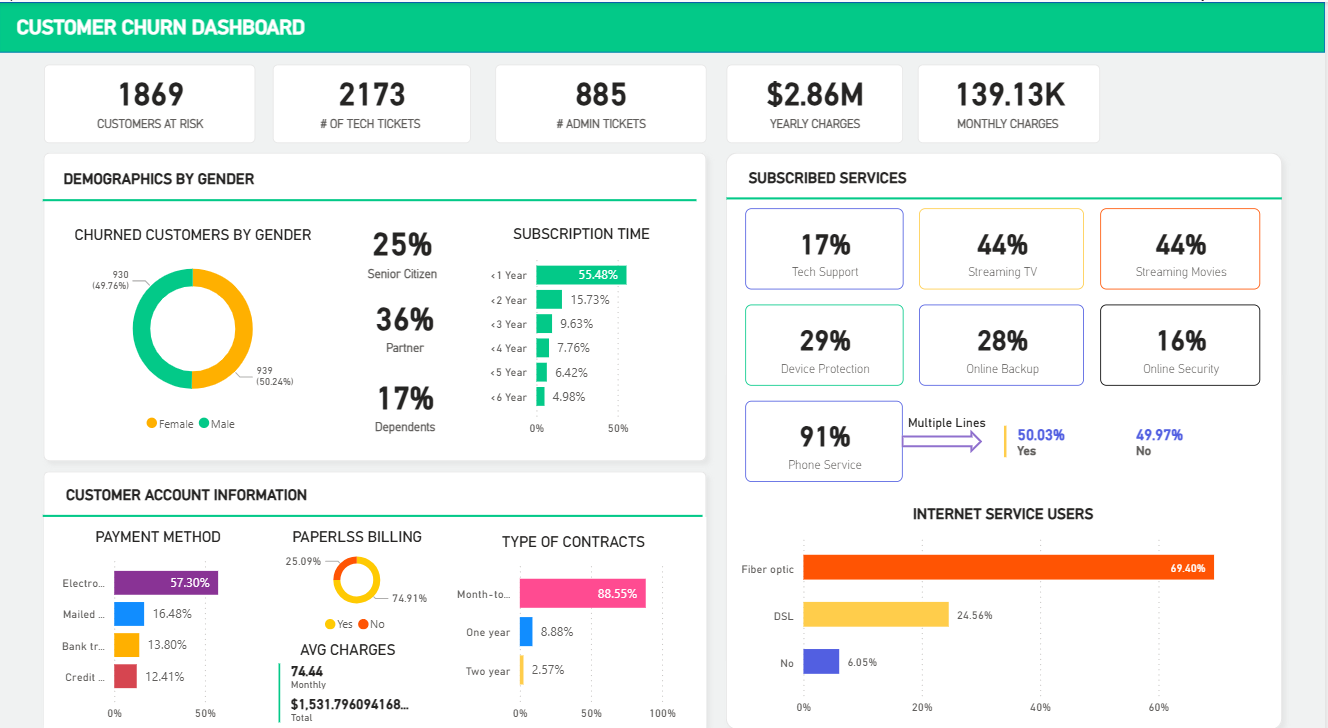

What the dashboard file says about the page in this screenshot:
{"tool":"powerbi","page":{"name":"Churn Dashboard","canvas":[1280,720],"ordinal":0},"visuals":[{"type":"shape","box":[0,0,1280,49],"z":0},{"type":"shape","box":[34,136,658,316],"z":0,"group":"g1"},{"type":"card","fields":{"Values":["Churn.% Tech Support"]},"box":[720,199,152.4,78.4],"z":0,"group":"g4"},{"type":"shape","box":[692,136,555,575],"z":1000},{"type":"card","fields":{"Values":["Churn.% Streaming TV"]},"box":[887.4,199,159.5,78.4],"z":1000,"group":"g4"},{"type":"donutChart","title":"CHURNED CUSTOMERS BY GENDER","fields":{"Category":["01 Churn-Dataset.gender"],"Y":["CountNonNull(01 Churn-Dataset.gender)"]},"box":[61.1,204.4,252.2,223.4],"z":1000,"group":"g1"},{"type":"shape","box":[702,123,536,133],"z":1500,"group":"g3"},{"type":"shape","box":[42,430,636.8,133],"z":1500,"group":"g2"},{"type":"textbox","box":[12,8,438,33],"z":2000},{"type":"textbox","box":[703.8,145,522.6,38],"z":2000,"group":"g3"},{"type":"textbox","box":[42.7,146.1,630.9,47.3],"z":2000,"group":"g1"},{"type":"card","fields":{"Values":["Churn.% Streaming Movies"]},"box":[1062.8,199,154.2,78.4],"z":2000,"group":"g4"},{"type":"textbox","box":[44.2,452,636.8,38],"z":2000,"group":"g2"},{"type":"card","fields":{"Values":["Churn.% of Senior Citizen"]},"box":[330.5,204.4,118,77.5],"z":3000,"group":"g1"},{"type":"card","fields":{"Values":["Churn.% Device Protection"]},"box":[720,291.6,152.4,78.4],"z":3000,"group":"g4"},{"type":"shape","box":[34,444,658,267],"z":3000},{"type":"card","fields":{"Values":["CountNonNull(01 Churn-Dataset.customerID)"]},"box":[44,60,204,76],"z":4000},{"type":"card","fields":{"Values":["Churn.% of partner"]},"box":[329.5,278.9,125.5,74.5],"z":4000,"group":"g1"},{"type":"card","fields":{"Values":["Churn.% Online Backup"]},"box":[887.4,291.6,159.5,78.4],"z":4000,"group":"g4"},{"type":"shape","box":[42.7,151.1,630.9,78.5],"z":5000,"group":"g1"},{"type":"card","fields":{"Values":["Churn.% Online Sec"]},"box":[1062.8,291.6,154.2,78.4],"z":5000,"group":"g4"},{"type":"card","fields":{"Values":["Churn.% Phone Service"]},"box":[720,385,152,78],"z":5000},{"type":"card","fields":{"Values":["Sum(01 Churn-Dataset.numTechTickets)"]},"box":[264,60,191,76],"z":6000},{"type":"card","fields":{"Values":["Churn.% of Dependents"]},"box":[329.5,351.4,125.5,79.5],"z":6000,"group":"g1"},{"type":"clusteredBarChart","title":"SUBSCRIPTION TIME","fields":{"Y":["CountNonNull(Churn.Churn)"],"Category":["Churn.Tenure(in years)"]},"box":[466.9,204.4,190.5,220.4],"z":7000,"group":"g1"},{"type":"clusteredBarChart","title":"PAYMENT METHOD","fields":{"Y":["CountNonNull(Churn.PaymentMethod)"],"Category":["Churn.PaymentMethod"]},"box":[44,497,220,204],"z":7000},{"type":"card","fields":{"Values":["Sum(01 Churn-Dataset.TotalCharges)"]},"box":[702,60,170,76],"z":8000},{"type":"card","fields":{"Values":["Sum(01 Churn-Dataset.numAdminTickets)"]},"box":[479,60,204,76],"z":9000},{"type":"group","id":"g1","title":"Group 1","box":[34,136,658,316],"z":10000},{"type":"card","fields":{"Values":["Sum(01 Churn-Dataset.MonthlyCharges)"]},"box":[887,60,176,76],"z":11000},{"type":"donutChart","title":"PAPERLSS BILLING","fields":{"Category":["Churn.PaperlessBilling"],"Y":["CountNonNull(Churn.PaperlessBilling)"]},"box":[248,497,194,126],"z":12000},{"type":"multiRowCard","title":"AVG CHARGES","fields":{"Values":["Avg(Churn.MonthlyCharges)","Avg(Churn.TotalCharges)"]},"box":[264,606,143,95],"z":13000},{"type":"clusteredBarChart","title":"TYPE OF CONTRACTS","fields":{"Category":["Churn.Contract"],"Y":["CountNonNull(Churn.Contract)"]},"box":[426,497,257,204],"z":14000},{"type":"group","id":"g2","title":"Group 2","box":[42,430,639,133],"z":15000},{"type":"group","id":"g3","title":"Group 2","box":[702,123,536,133],"z":16000},{"type":"group","id":"g4","title":"Group 3","box":[720,199,497,171],"z":17000},{"type":"shape","box":[871,412,78,23],"z":18000},{"type":"textbox","box":[872,391,300,30],"z":19000},{"type":"multiRowCard","fields":{"Values":["Churn.% Yes-Multiple Lines","Churn.% No-Multiple Lines"]},"box":[965,404,252,53],"z":20000},{"type":"barChart","title":"INTERNET SERVICE USERS","fields":{"Y":["CountNonNull(Churn.InternetService)"],"Category":["Churn.InternetService"]},"box":[710,471,517,230],"z":21000}]}

Visuals, with their boxes in screenshot pixels (x1, y1, x2, y2), scaled from the page's 1280x720 canvas onto the 1328x728 screenshot:
shape: (x1=0, y1=0, x2=1327, y2=50)
shape: (x1=35, y1=138, x2=718, y2=457)
card - Churn.% Tech Support: (x1=747, y1=201, x2=905, y2=280)
shape: (x1=718, y1=138, x2=1294, y2=719)
card - Churn.% Streaming TV: (x1=921, y1=201, x2=1086, y2=280)
"CHURNED CUSTOMERS BY GENDER" donutChart: (x1=63, y1=207, x2=325, y2=433)
shape: (x1=728, y1=124, x2=1284, y2=259)
shape: (x1=44, y1=435, x2=704, y2=569)
textbox: (x1=12, y1=8, x2=467, y2=41)
textbox: (x1=730, y1=147, x2=1272, y2=185)
textbox: (x1=44, y1=148, x2=699, y2=196)
card - Churn.% Streaming Movies: (x1=1103, y1=201, x2=1263, y2=280)
textbox: (x1=46, y1=457, x2=707, y2=495)
card - Churn.% of Senior Citizen: (x1=343, y1=207, x2=465, y2=285)
card - Churn.% Device Protection: (x1=747, y1=295, x2=905, y2=374)
shape: (x1=35, y1=449, x2=718, y2=719)
card - CountNonNull(01 Churn-Dataset.customerID): (x1=46, y1=61, x2=257, y2=138)
card - Churn.% of partner: (x1=342, y1=282, x2=472, y2=357)
card - Churn.% Online Backup: (x1=921, y1=295, x2=1086, y2=374)
shape: (x1=44, y1=153, x2=699, y2=232)
card - Churn.% Online Sec: (x1=1103, y1=295, x2=1263, y2=374)
card - Churn.% Phone Service: (x1=747, y1=389, x2=905, y2=468)
card - Sum(01 Churn-Dataset.numTechTickets): (x1=274, y1=61, x2=472, y2=138)
card - Churn.% of Dependents: (x1=342, y1=355, x2=472, y2=436)
"SUBSCRIPTION TIME" clusteredBarChart: (x1=484, y1=207, x2=682, y2=430)
"PAYMENT METHOD" clusteredBarChart: (x1=46, y1=503, x2=274, y2=709)
card - Sum(01 Churn-Dataset.TotalCharges): (x1=728, y1=61, x2=905, y2=138)
card - Sum(01 Churn-Dataset.numAdminTickets): (x1=497, y1=61, x2=709, y2=138)
"Group 1" group: (x1=35, y1=138, x2=718, y2=457)
card - Sum(01 Churn-Dataset.MonthlyCharges): (x1=920, y1=61, x2=1103, y2=138)
"PAPERLSS BILLING" donutChart: (x1=257, y1=503, x2=459, y2=630)
"AVG CHARGES" multiRowCard: (x1=274, y1=613, x2=422, y2=709)
"TYPE OF CONTRACTS" clusteredBarChart: (x1=442, y1=503, x2=709, y2=709)
"Group 2" group: (x1=44, y1=435, x2=707, y2=569)
"Group 2" group: (x1=728, y1=124, x2=1284, y2=259)
"Group 3" group: (x1=747, y1=201, x2=1263, y2=374)
shape: (x1=904, y1=417, x2=985, y2=440)
textbox: (x1=905, y1=395, x2=1216, y2=426)
multiRowCard - Churn.% Yes-Multiple Lines x Churn.% No-Multiple Lines: (x1=1001, y1=408, x2=1263, y2=462)
"INTERNET SERVICE USERS" barChart: (x1=737, y1=476, x2=1273, y2=709)
